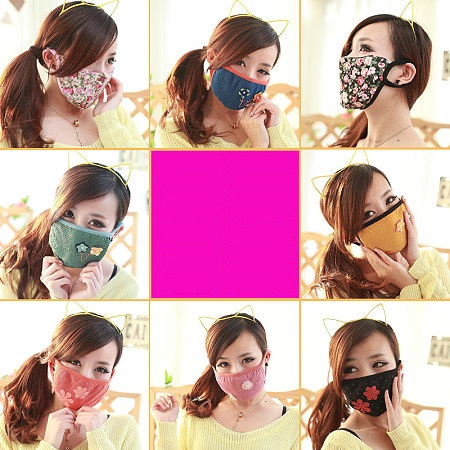face_mask: (50, 188, 116, 266), (337, 24, 396, 111), (338, 336, 396, 414), (54, 337, 114, 410), (62, 31, 116, 112), (351, 176, 410, 248), (214, 40, 270, 110), (213, 333, 264, 402)
